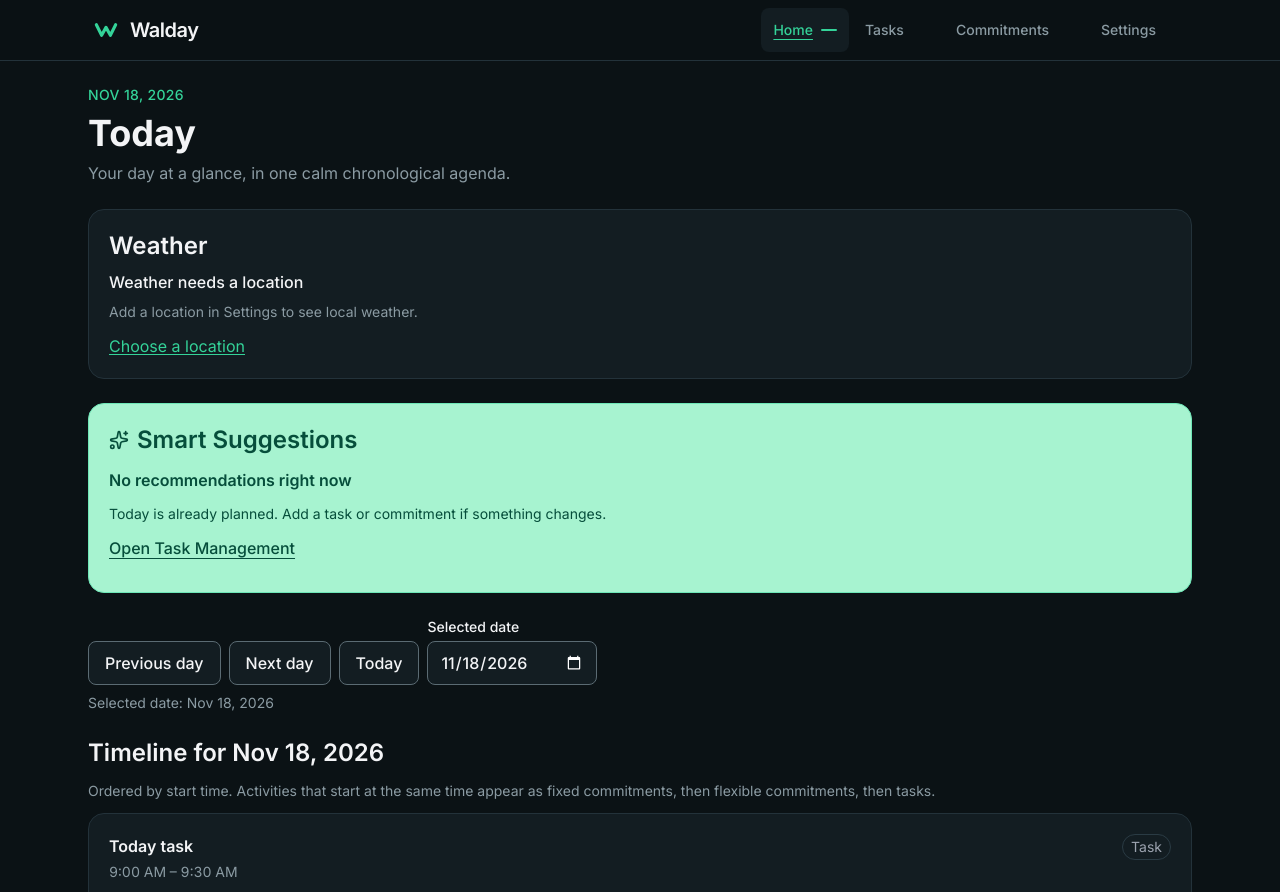
agenda date navigation › keeps per-date data from bleeding and writes nothing while navigating
Expected: the heading "Today" is shown, [88,111,196,155]
Expected: the heading "Today task" is shown, [109,836,193,856]
Click the button "Next day" at [280, 663], box [229,641,331,685]
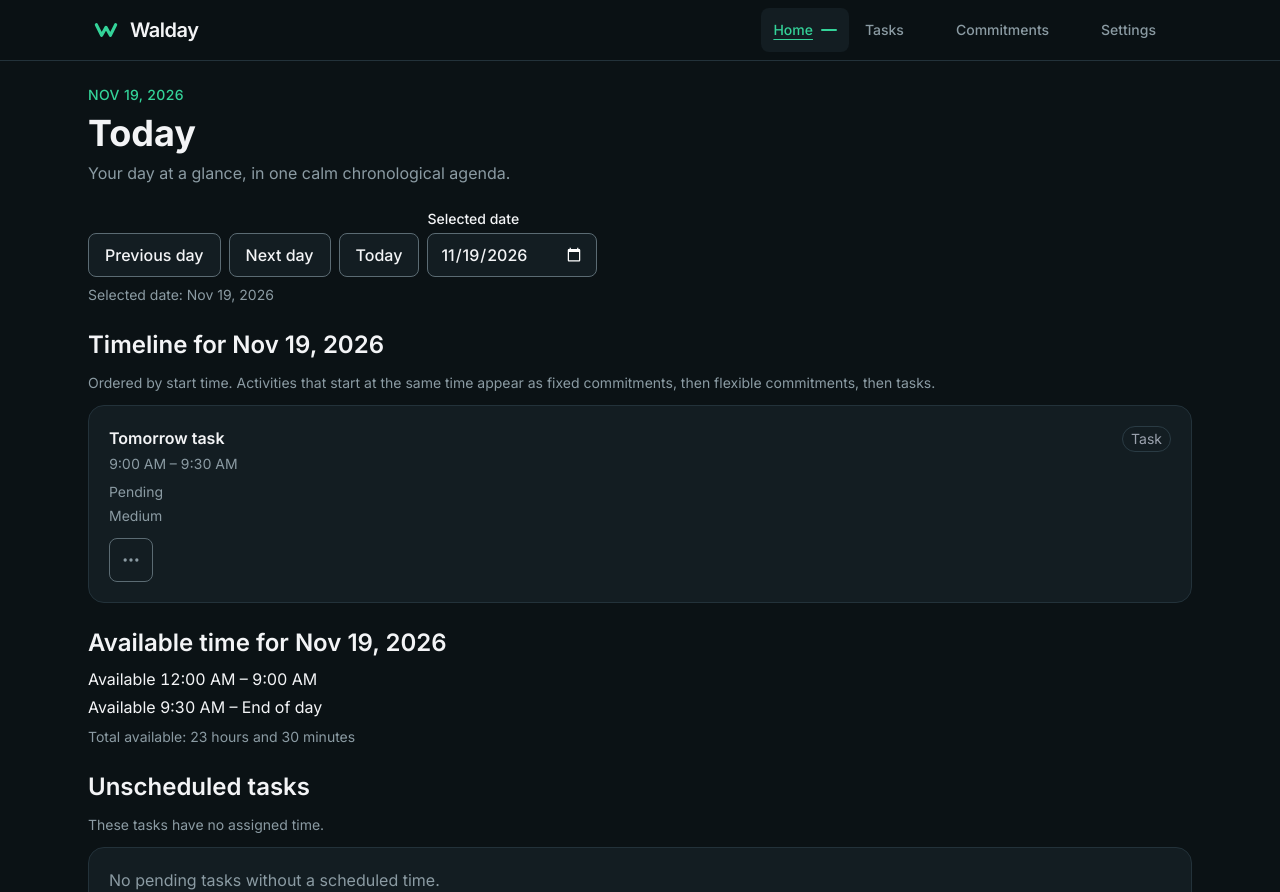
Expected: the heading "Tomorrow task" is shown, [109,426,238,450]
Expected: the heading "Today task" is gone
